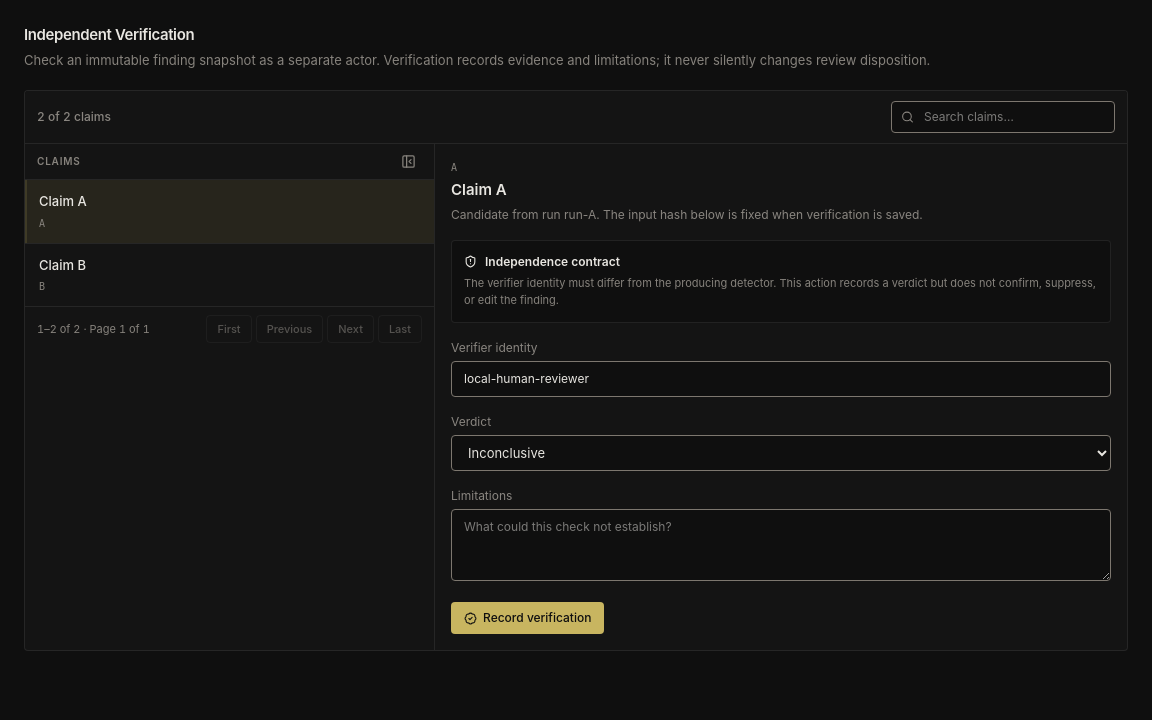
Test: a save completed after selecting another claim cannot contaminate its history
Expected: the heading "Claim A" is shown, [451,180,507,199]
What coordinates should you click on to do the following:
click the button "Record verification"
I would click on:
 (528, 618)
Its box is [451,602,604,634].
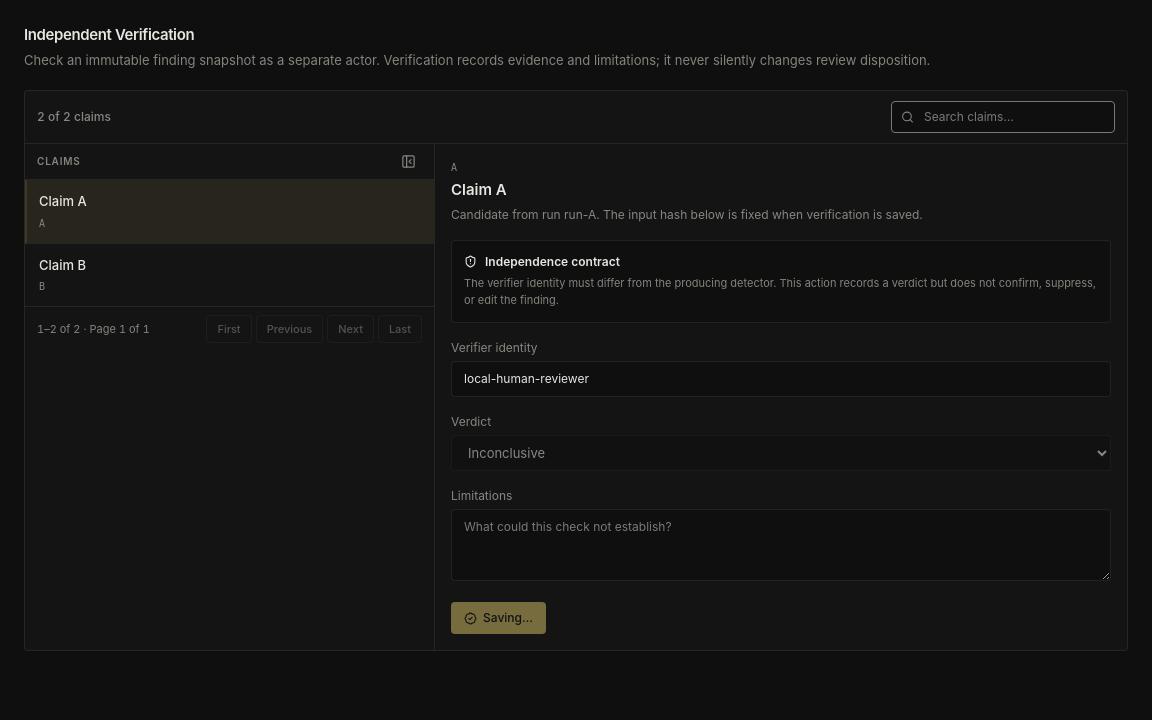
What coordinates should you click on to do the following:
click the button named "Claim BB"
I would click on:
 (63, 264)
Its box is [25,244,434,306].
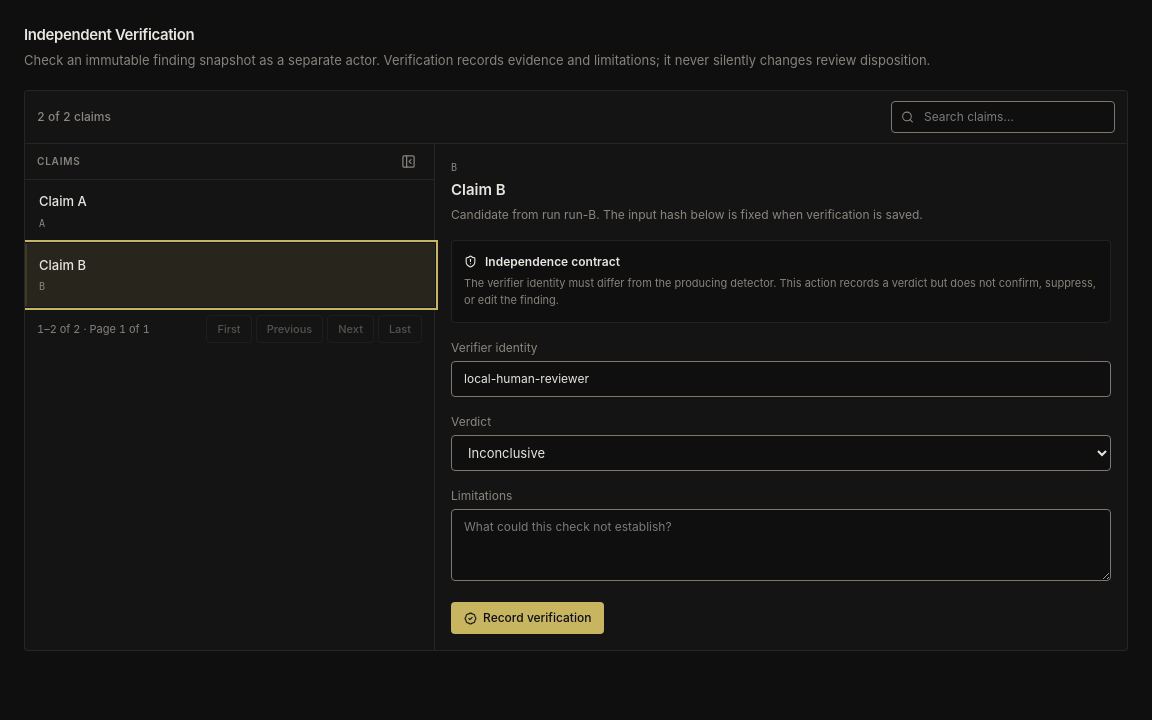
Expected: the heading "Claim B" is shown, [451,180,506,199]
